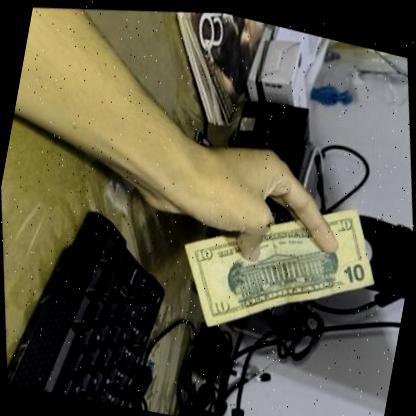ten-back: (156, 153, 402, 367)
